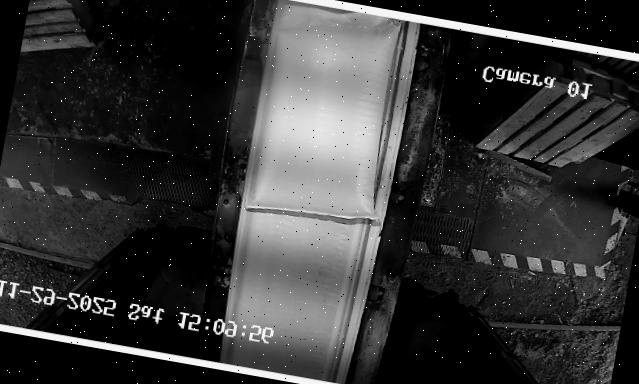bag: (242, 0, 413, 232)
